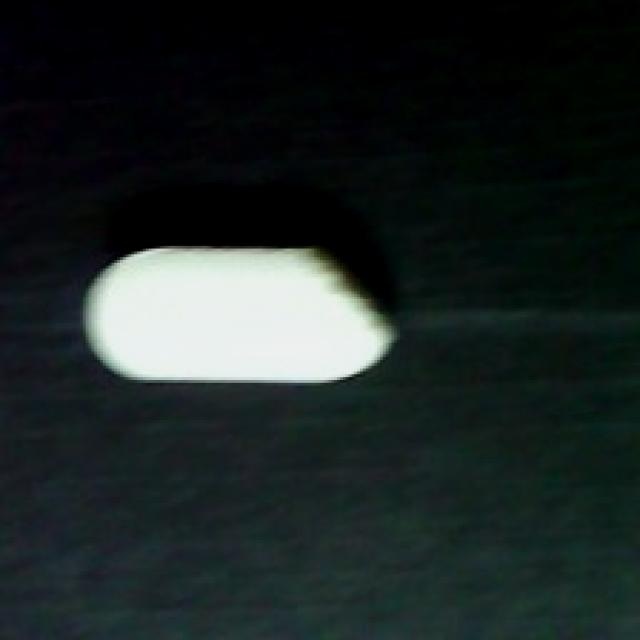defected: (80, 229, 406, 400)
